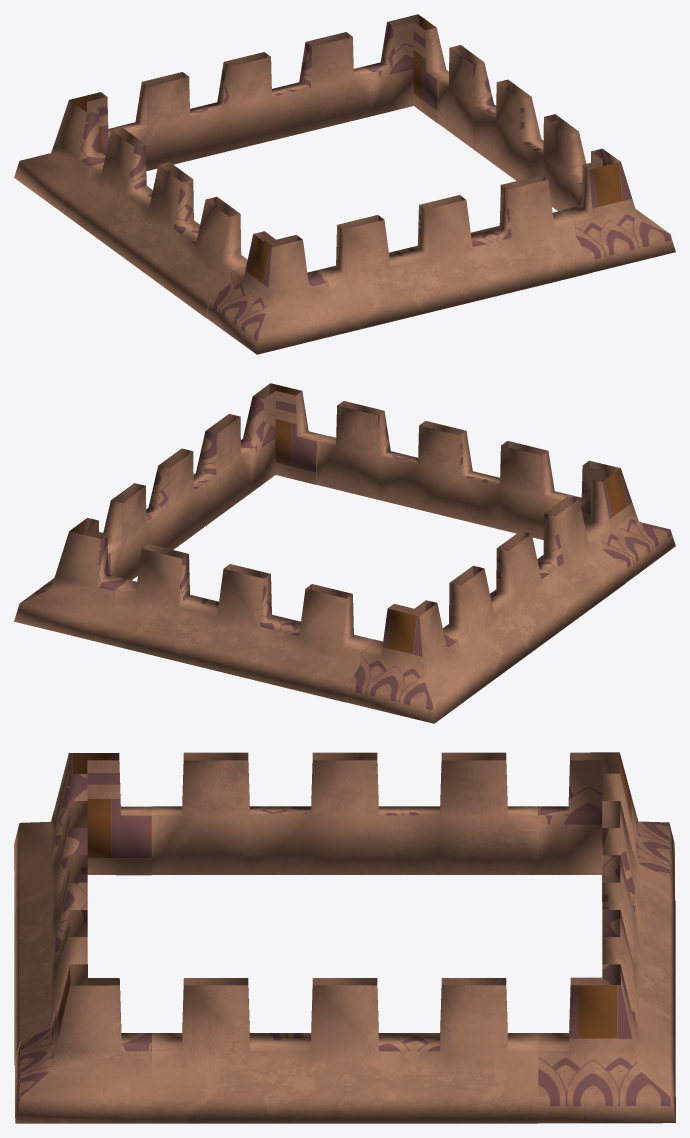
The model's file is templepart1.fbx.
3 renders of one model, top to bottom at view 1: azimuth 30°, elevation 25°; view 2: azimuth 150°, elevation 25°; view 3: azimuth 270°, elevation 25°, orthographic. The views are drawn at different scales.
Visible parts, largest first — view 1: Object008, Object032, Object030, Object034, Object011, Object035, Object033, Object031; view 2: Object032, Object008, Object030, Object034, Object031, Object033, Object035, Object011; view 3: Object034, Object030, Object033, Object035, Object008, Object032, Object011, Object031.
Boxes of the visible parts, box(x1,y1,x2,y2) form: Object008: box(317, 175, 588, 333); Object032: box(116, 32, 373, 171); Object030: box(64, 127, 247, 317); Object034: box(437, 45, 586, 211); Object011: box(206, 231, 343, 354); Object035: box(562, 148, 675, 273); Object033: box(362, 14, 448, 122); Object031: box(14, 92, 118, 213); Object032: box(101, 544, 372, 702); Object008: box(316, 401, 573, 539); Object030: box(443, 496, 625, 686); Object034: box(103, 414, 252, 580); Object031: box(347, 600, 484, 723); Object033: box(14, 518, 127, 642); Object035: box(241, 383, 327, 491); Object011: box(571, 460, 675, 582); Object034: box(151, 978, 538, 1123); Object030: box(151, 752, 538, 874); Object033: box(538, 964, 675, 1123); Object035: box(15, 964, 151, 1123); Object008: box(14, 801, 87, 1065); Object032: box(602, 801, 675, 1064); Object011: box(14, 753, 151, 900); Object031: box(538, 752, 674, 901).
Size of the model in its own units: 3672 by 3672 by 702.
